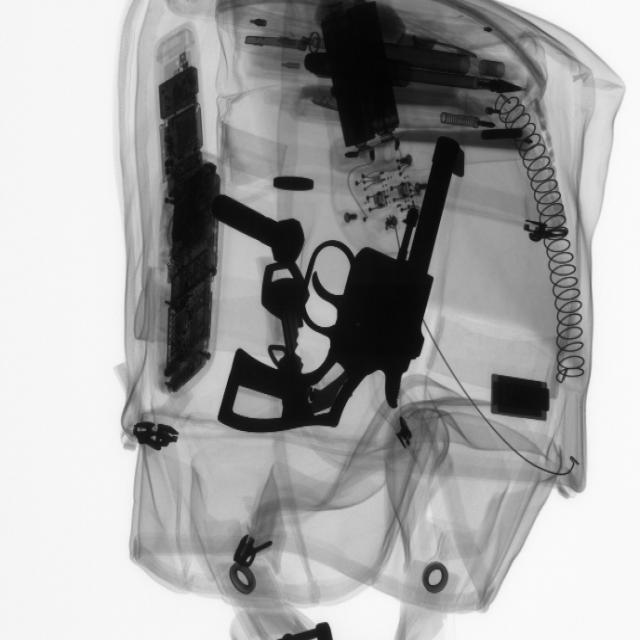GUN: (220, 144, 478, 446)
